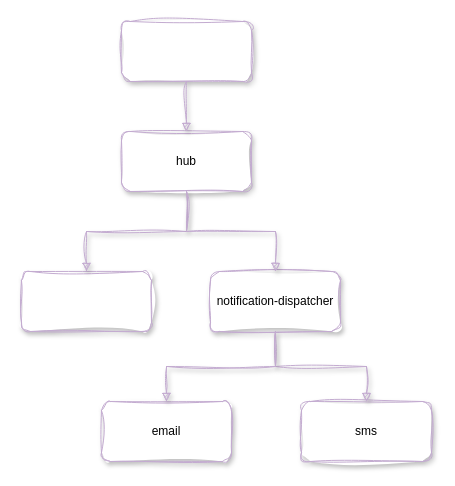
This 455x486 diagram has some shape labels left out. The shapes that lost their labels are listed below. From the top down, each one's centre as x and y in pixels, then its label:
pixel 187 52: client calls
pixel 87 302: avail-calculator
